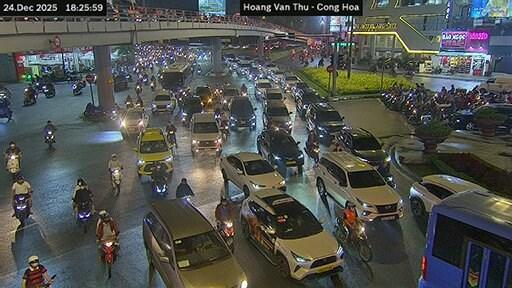motorbike: (332, 217, 371, 261), (99, 238, 117, 277), (217, 221, 233, 251), (13, 194, 28, 225), (76, 202, 90, 232), (304, 140, 319, 162), (6, 154, 19, 179), (152, 176, 166, 198), (83, 103, 105, 116), (112, 167, 121, 194), (218, 120, 229, 139), (0, 103, 12, 120), (22, 90, 37, 103), (44, 129, 54, 147), (166, 130, 176, 148), (42, 85, 54, 97), (109, 104, 118, 118), (73, 82, 82, 94), (34, 81, 42, 91), (125, 100, 134, 108), (135, 82, 140, 94), (141, 76, 147, 85), (391, 67, 396, 76), (403, 71, 412, 76), (41, 283, 50, 287), (150, 81, 154, 90), (195, 67, 201, 72), (51, 274, 56, 279)
